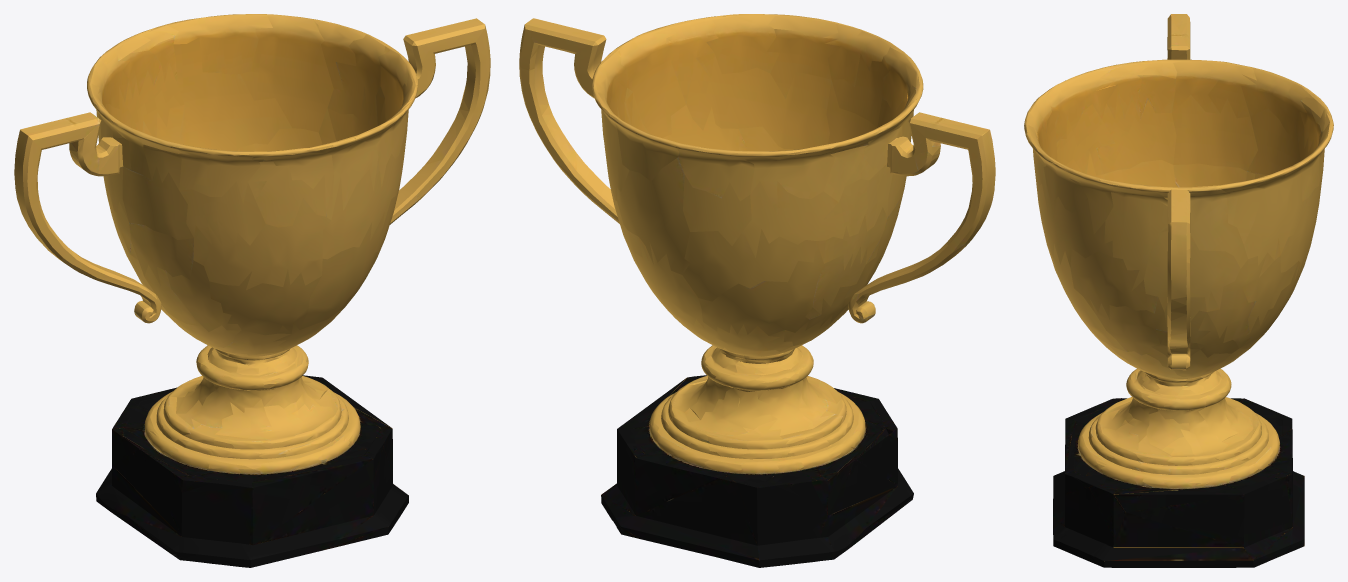
The model's file is trophy.glb.
3 views of the same model, side by side, from view 1: azimuth 30°, elevation 25°; view 2: azimuth 150°, elevation 25°; view 3: azimuth 270°, elevation 25° (orthographic). The views are drawn at different scales.
Bounding box in the file's own units: 1 × 0.8685 × 0.6138.
1 material, 1 textured.
